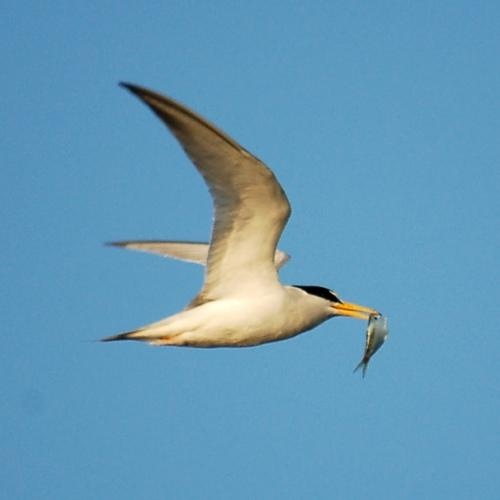bird: (103, 81, 384, 354)
